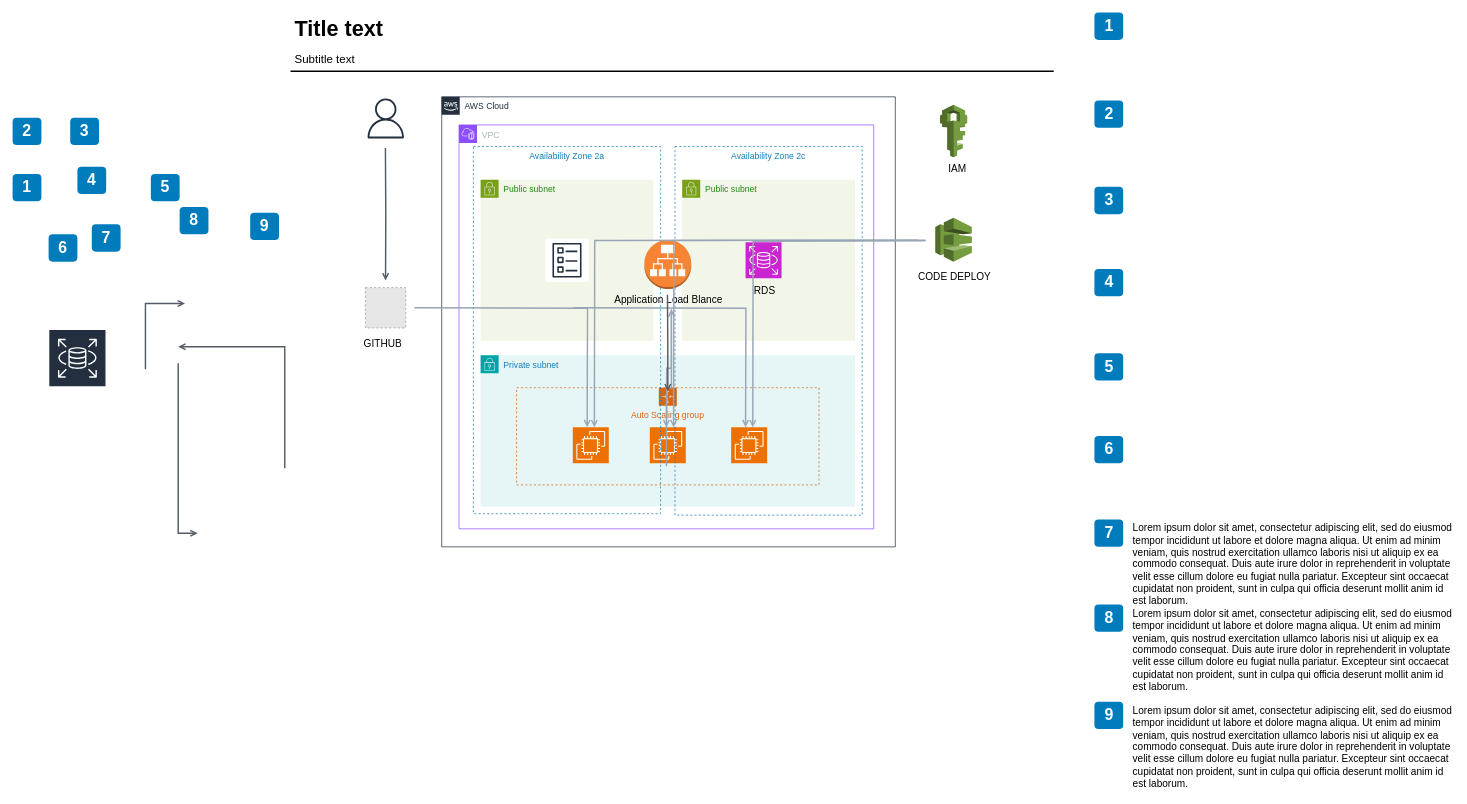
The diagram is 1467 pixels wide and 804 high, and some of its shapes have lost their labels. Grey dashed boxes stand in for pictures. Here are the shapes that lost their labels. From the top down, the centre of each, then its label:
point 567,260: Template
point 77,365: Amazon RDS
